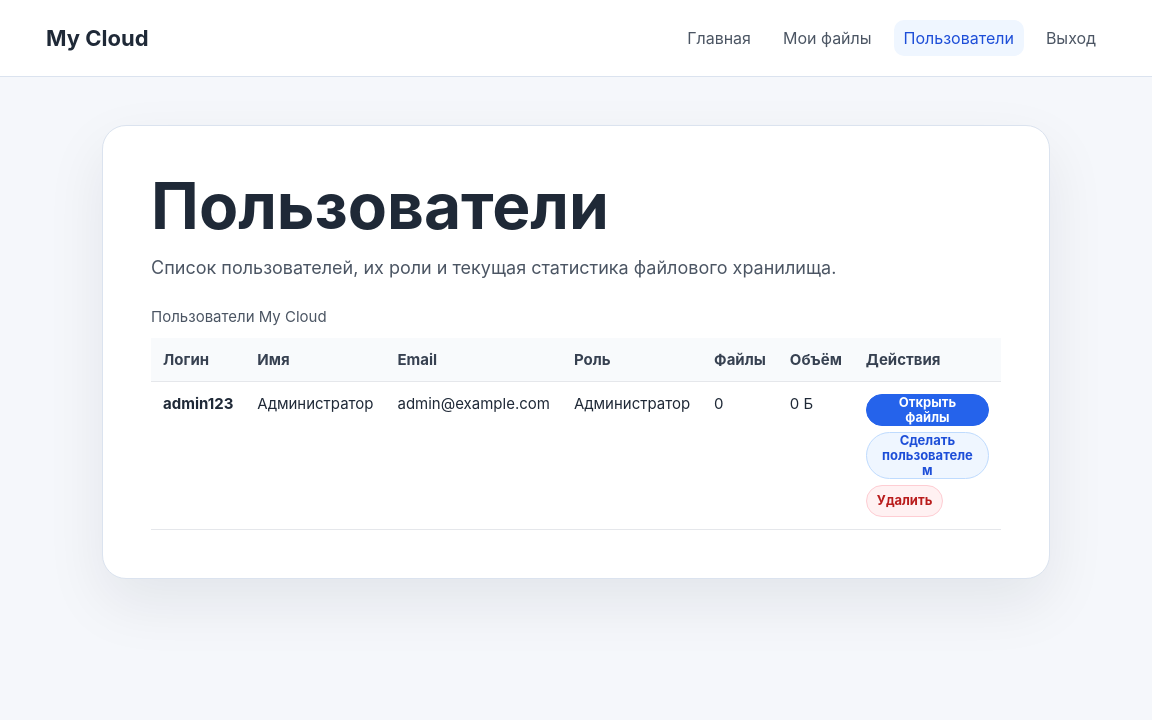
Test: App › shows role update error for admin
Click the button "Сделать пользователем". click: (927, 455)
box: [866, 432, 989, 479]
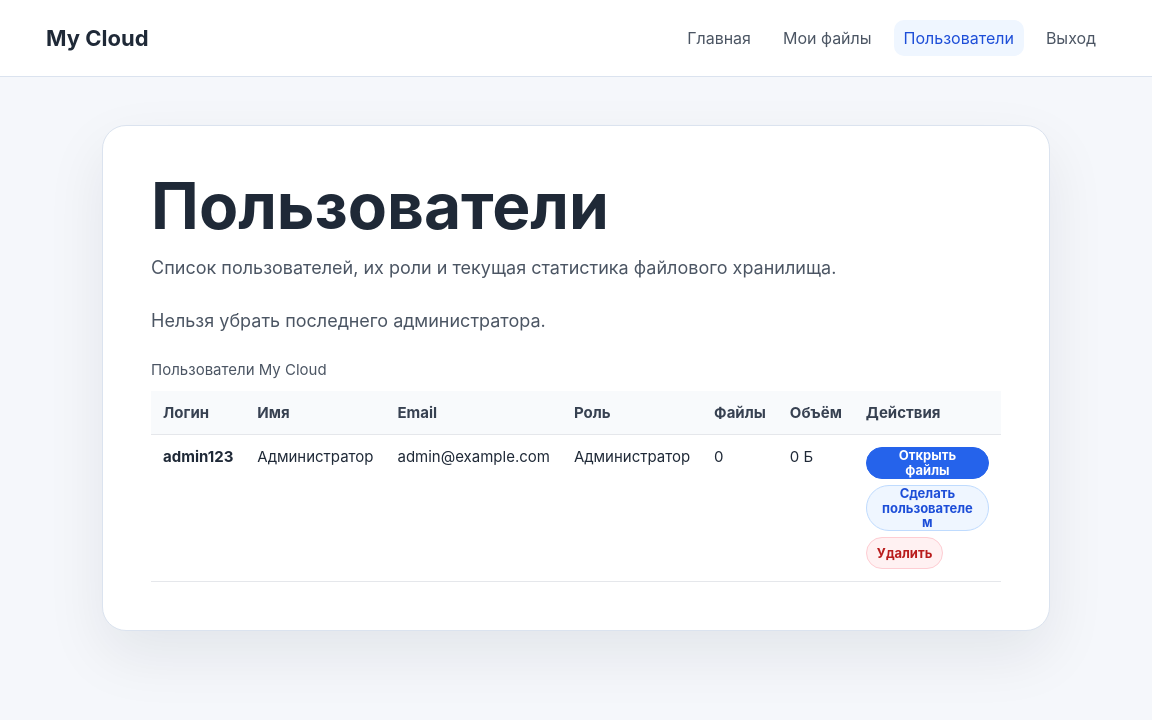
Check: the message reads "Нельзя убрать последнего администратора.", box [151, 310, 546, 331]
